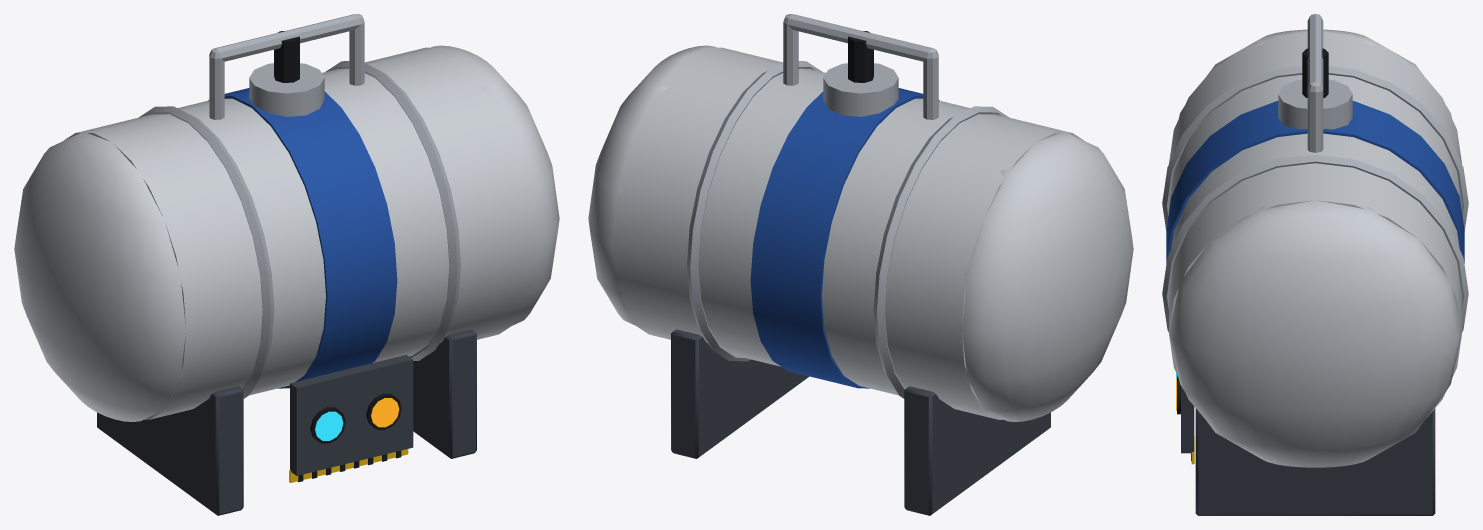
Rendered from cylinder_bulk_lox_tank.glb.
3 views of the same model, side by side, from view 1: azimuth 30°, elevation 25°; view 2: azimuth 150°, elevation 25°; view 3: azimuth 270°, elevation 25° (orthographic).
Parts seen in each view (by area): view 1: cylinder_bulk_lox_tank; view 2: cylinder_bulk_lox_tank; view 3: cylinder_bulk_lox_tank.
Part boxes in pixels (x1=…): cylinder_bulk_lox_tank: x1=14, y1=14, x2=559, y2=515; cylinder_bulk_lox_tank: x1=588, y1=14, x2=1133, y2=515; cylinder_bulk_lox_tank: x1=1162, y1=14, x2=1468, y2=515.
Bounding box in the file's own units: 2.05 × 1.68 × 1.15.
